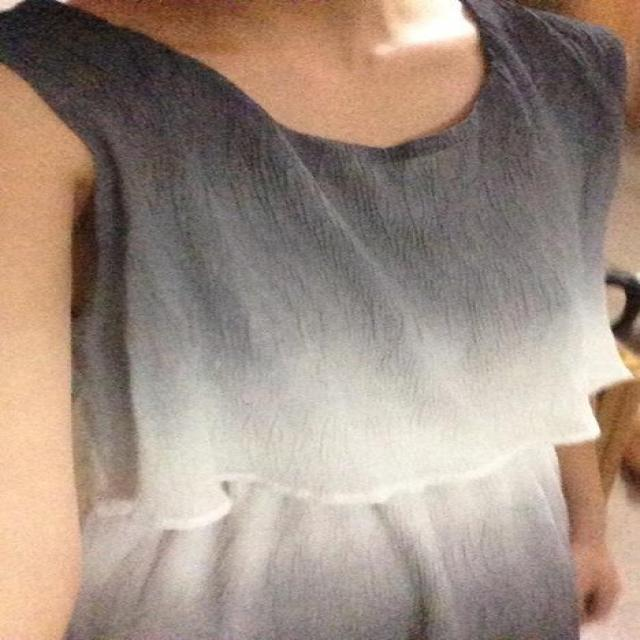skirt: (0, 413, 580, 639)
vest: (1, 2, 632, 517)
